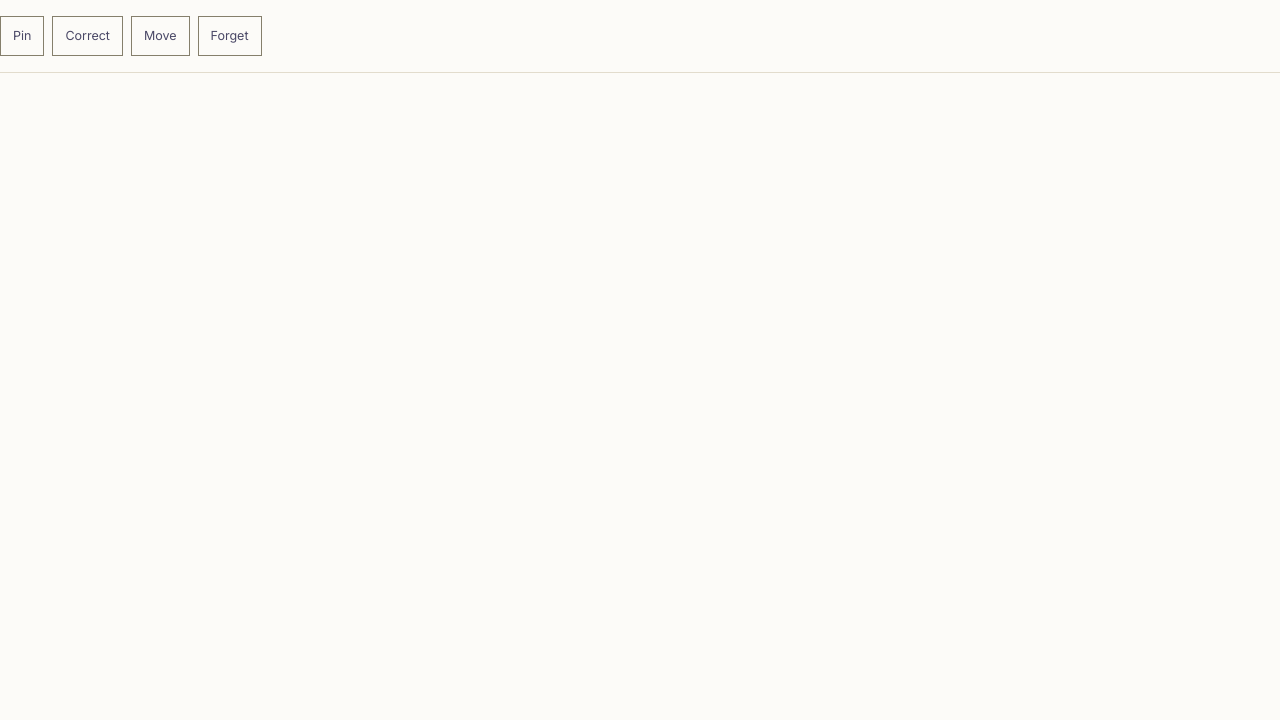
Test case: a correction that lost a race keeps the dialog and the text, and says why
Click the button "Correct" at [88, 36], box [52, 16, 123, 56]
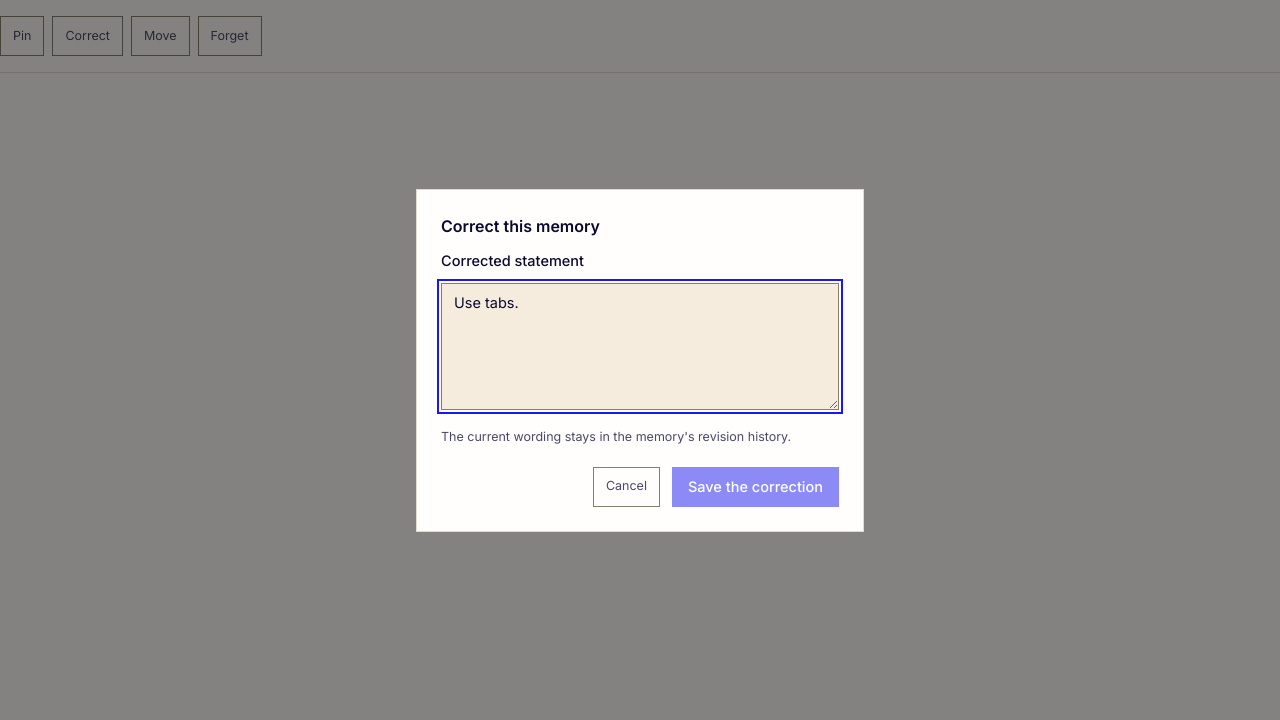
Replace the text in the text box labelled "Corrected statement" with "Use two spaces." at [640, 347], box [441, 283, 839, 410]
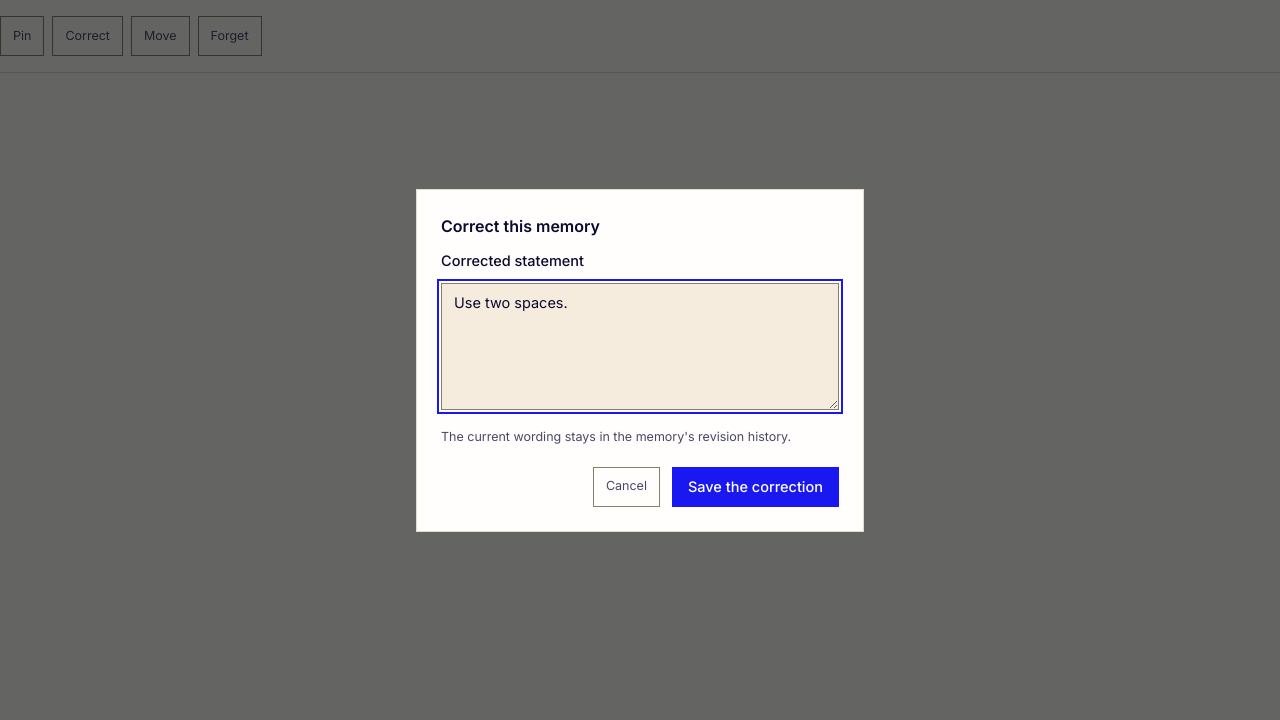
Click the button "Save the correction" at [755, 486], box [672, 466, 839, 506]
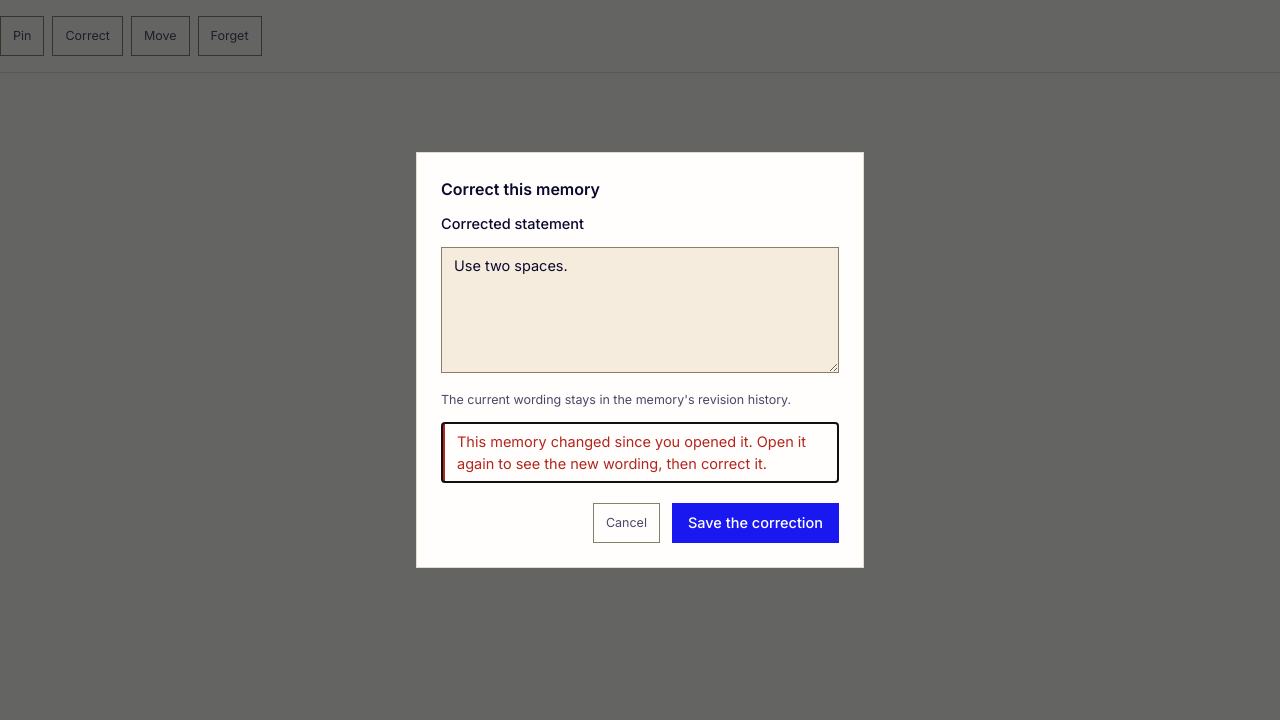
Expected: the message shows "changed since you opened it", [457, 433, 806, 472]
